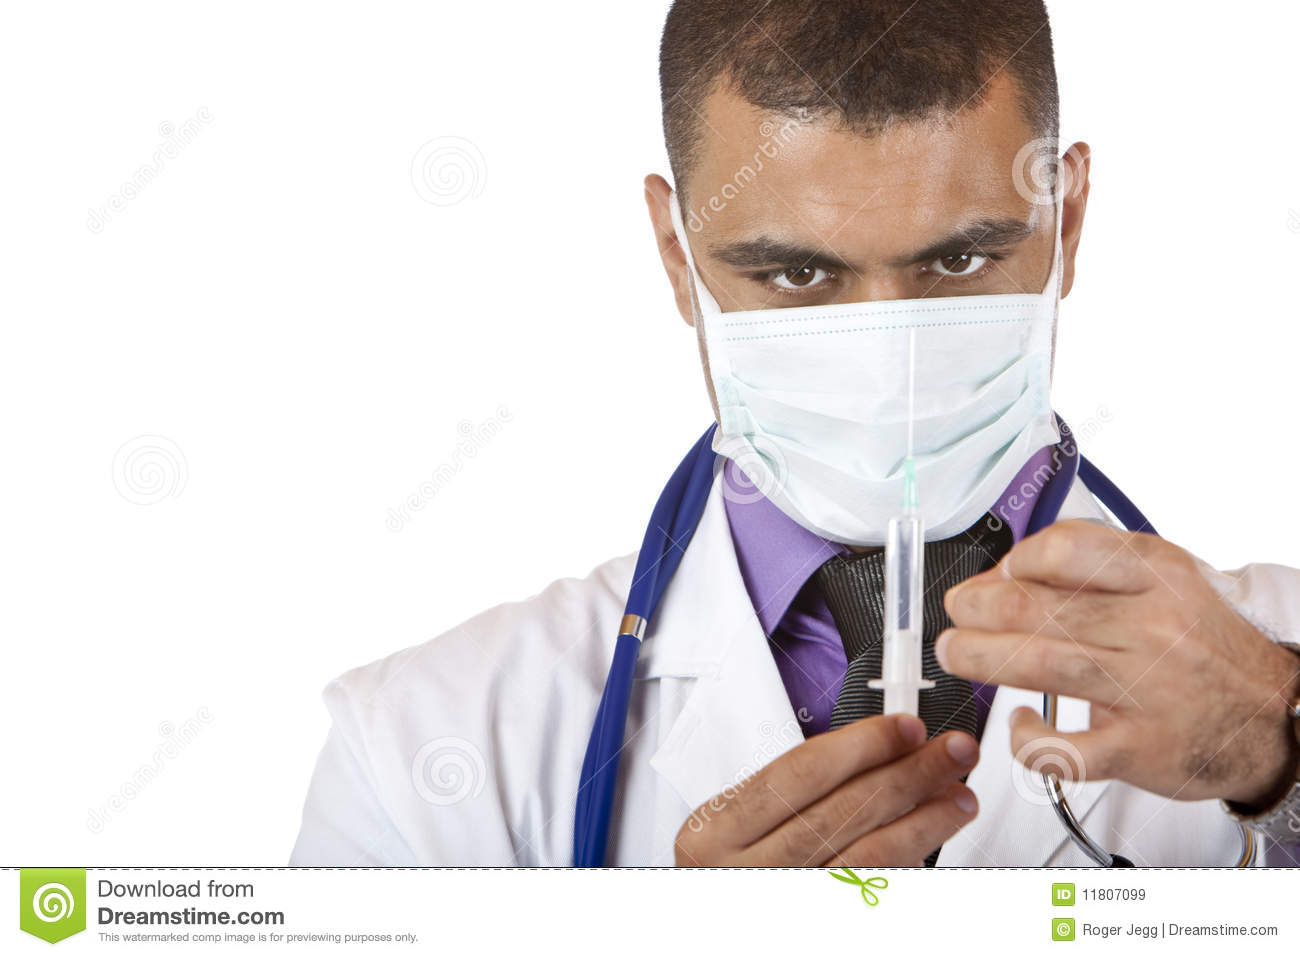mask: (703, 289, 1061, 547)
